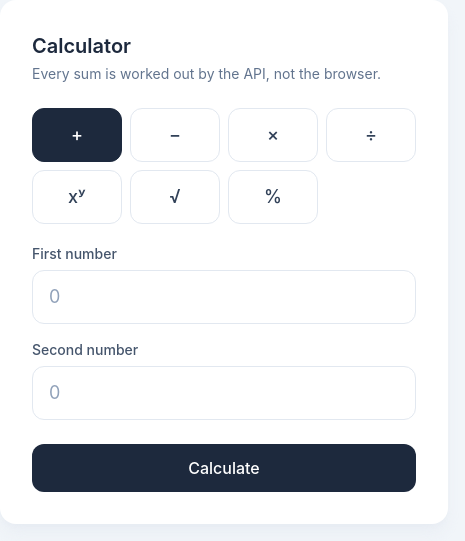
choosing an operation › brings the second field back when a binary operation is chosen again
This screenshot has width=465, height=541.
Click the button named "square root".
click(175, 197)  # box [130, 170, 220, 224]
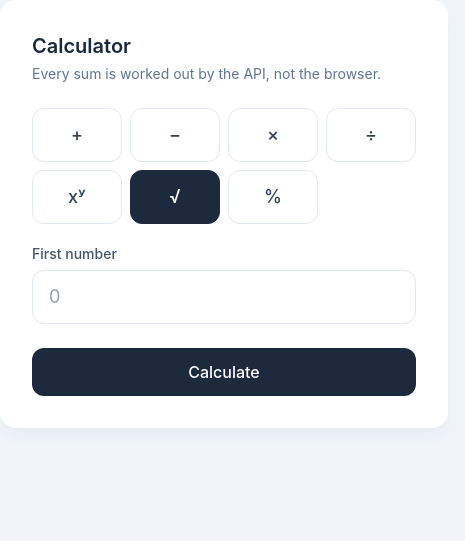
Click the button named "multiplication".
click(273, 135)  # box [228, 108, 318, 162]
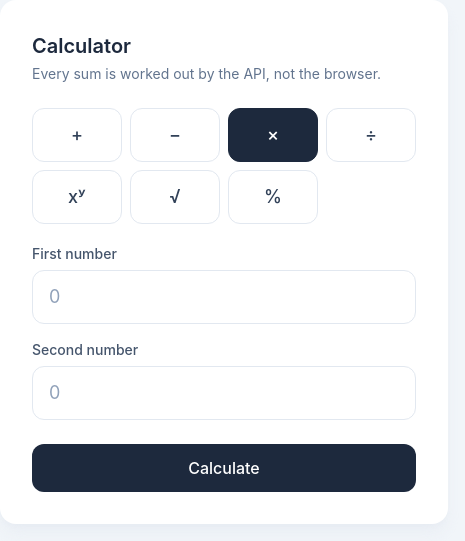
Result: the field labelled "Second number" is shown at [32, 366, 416, 420]
